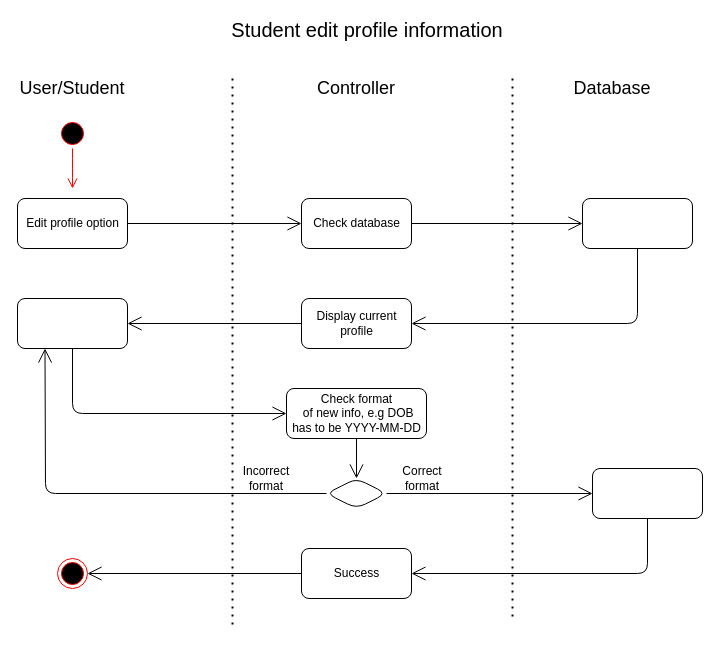
Some shapes in this 720 by 647 pixel diagram are drawn without their labels. Here are the shapes that lost their labels. From the top down, the box of each, then its label:
(582, 198, 692, 248): Find student current profile
(16, 298, 128, 348): Fill in new info
(592, 468, 702, 518): Save new info in database
